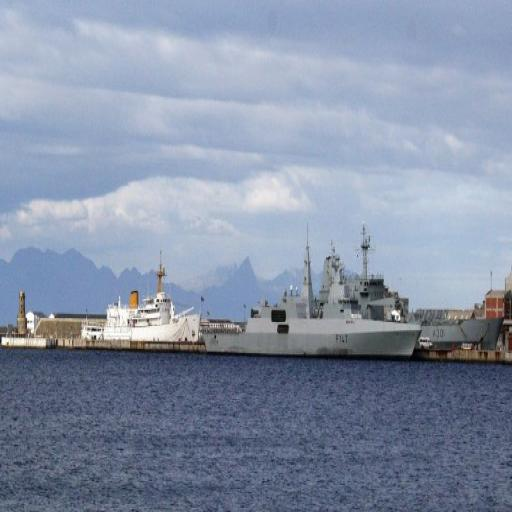Fragata: (199, 218, 425, 366)
